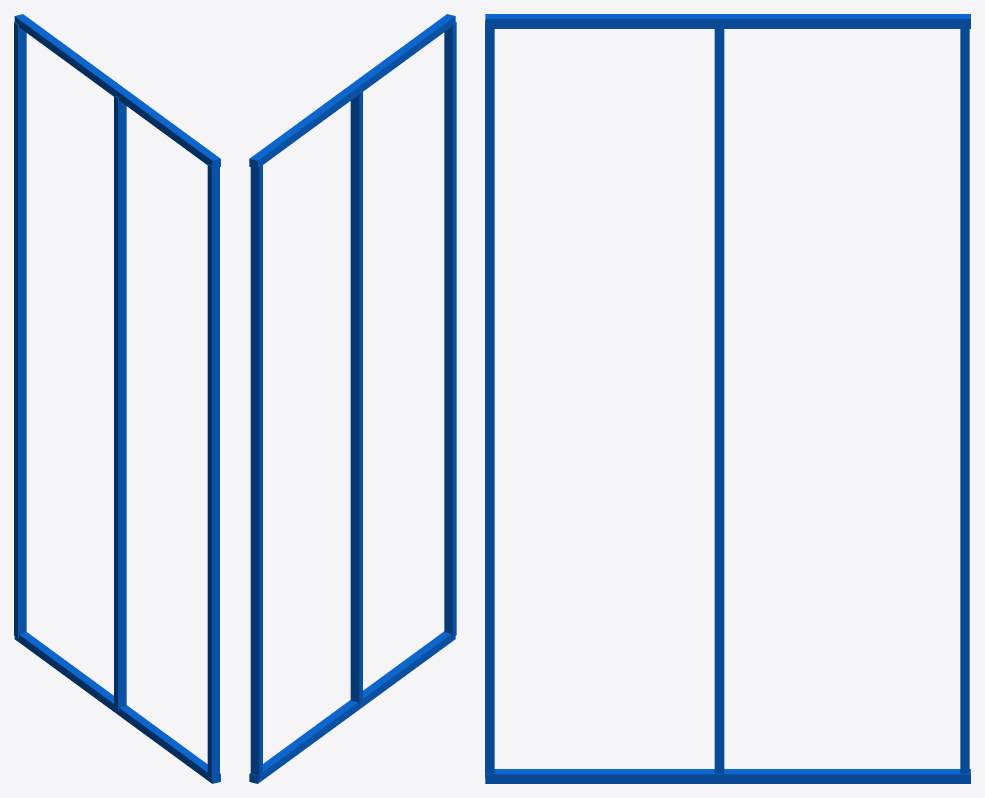
Rendered from Wall_W_Metal_02.fbx.
3 views of the same model, side by side, from view 1: azimuth 30°, elevation 25°; view 2: azimuth 150°, elevation 25°; view 3: azimuth 270°, elevation 25° (orthographic). The views are drawn at different scales.
Parts seen in each view (by area): view 1: Wall_W_Metal_02; view 2: Wall_W_Metal_02; view 3: Wall_W_Metal_02.
Part boxes in pixels (x1,y1,x2,y2): Wall_W_Metal_02: (14, 14, 220, 783); Wall_W_Metal_02: (249, 14, 456, 783); Wall_W_Metal_02: (485, 14, 970, 783).
Bounding box in the file's own units: 16.19 × 1027 × 592.
